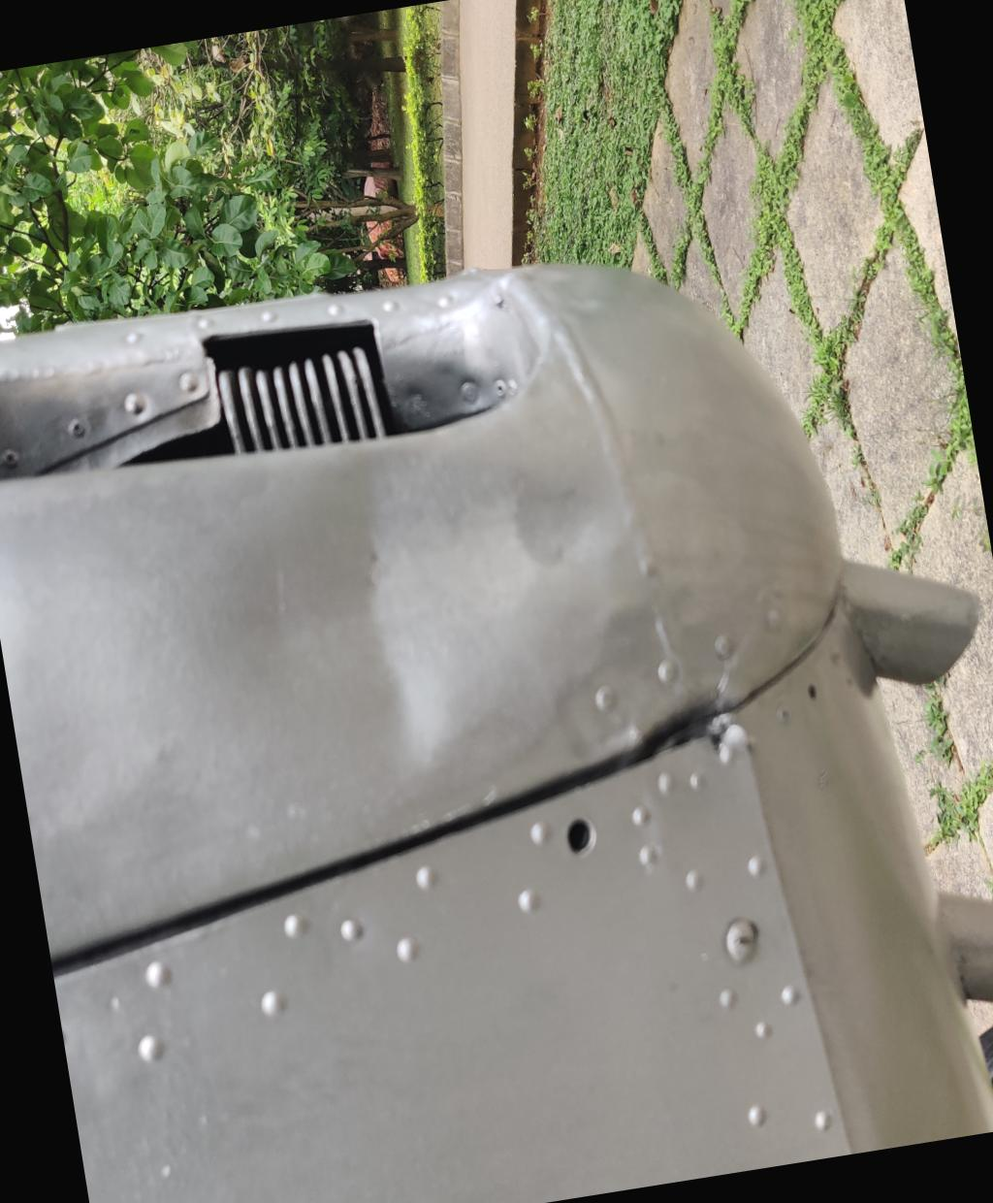dent: (380, 433, 747, 998)
